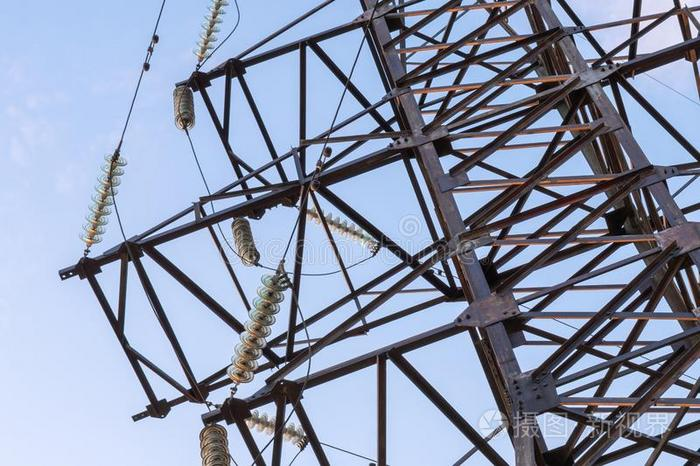insulator: (230, 271, 286, 380), (78, 153, 126, 245), (308, 213, 370, 243), (246, 410, 306, 441), (195, 1, 226, 59), (229, 218, 260, 268), (200, 423, 233, 466), (170, 85, 195, 129)
